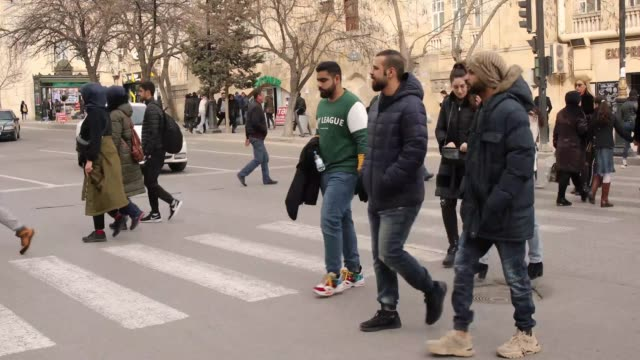yaya: (449, 62, 536, 360), (355, 54, 435, 352), (301, 59, 356, 307), (55, 71, 133, 241), (103, 80, 150, 236), (430, 57, 466, 260), (139, 73, 185, 217), (229, 78, 282, 192)
